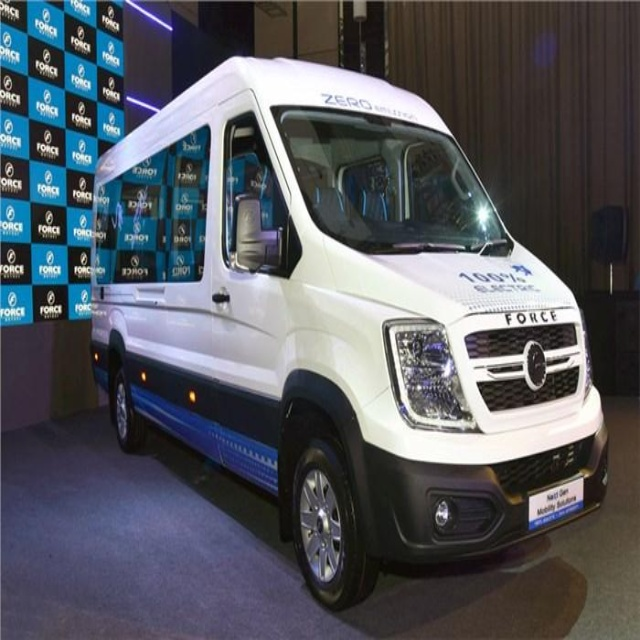Van: (91, 54, 610, 612)
